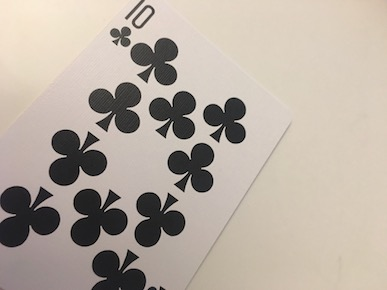TenOfClubs: (1, 1, 296, 290)
